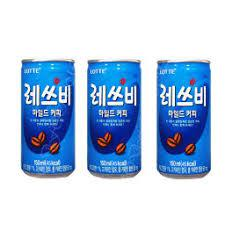letsbe: (87, 58, 144, 181), (21, 59, 76, 177), (158, 60, 211, 179)
